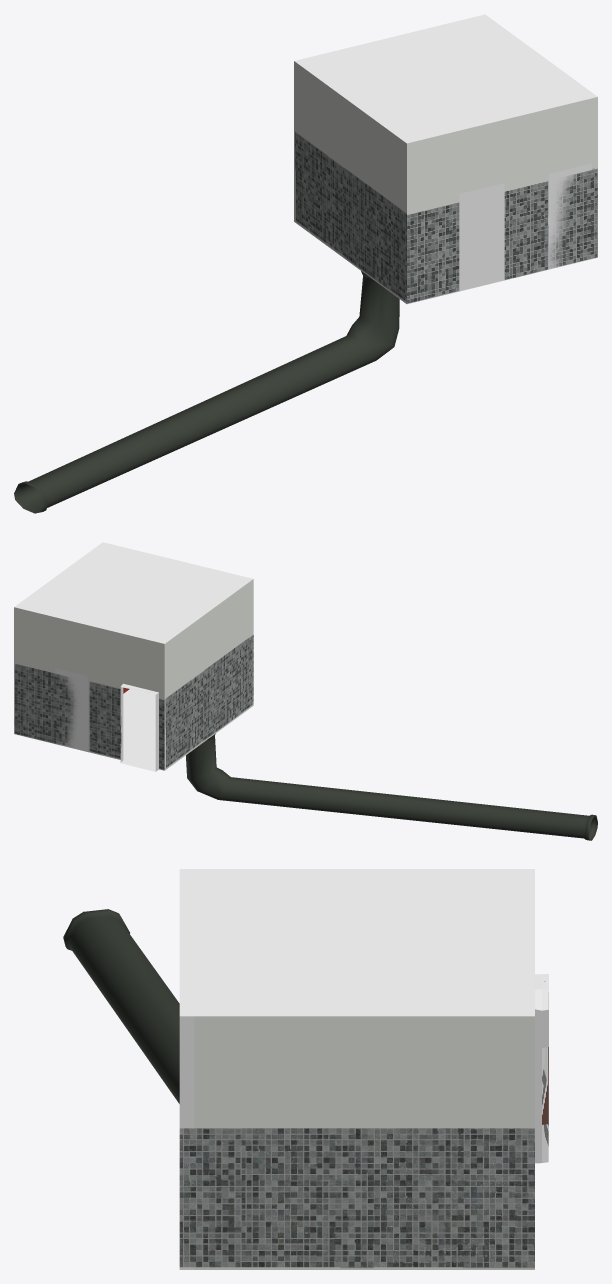
File: bathroom.fbx
3 renders of one model, top to bottom at view 1: azimuth 30°, elevation 25°; view 2: azimuth 150°, elevation 25°; view 3: azimuth 270°, elevation 25°, orthographic. The views are drawn at different scales.
Parts seen in each view (by area): view 1: bathroom, pipe_L_joint; view 2: bathroom, pipe_L_joint; view 3: bathroom, pipe_L_joint.
Boxes of the visible parts, left/top/right/bottom form: bathroom: left=294, top=14, right=597, bottom=304; pipe_L_joint: left=14, top=271, right=399, bottom=513; bathroom: left=14, top=542, right=253, bottom=771; pipe_L_joint: left=186, top=733, right=597, bottom=840; bathroom: left=179, top=869, right=548, bottom=1269; pipe_L_joint: left=63, top=909, right=179, bottom=1103.
Bounding box in the file's own units: 4481 × 1781 × 1991.
